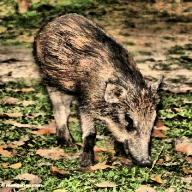boar: (42, 22, 164, 172)
